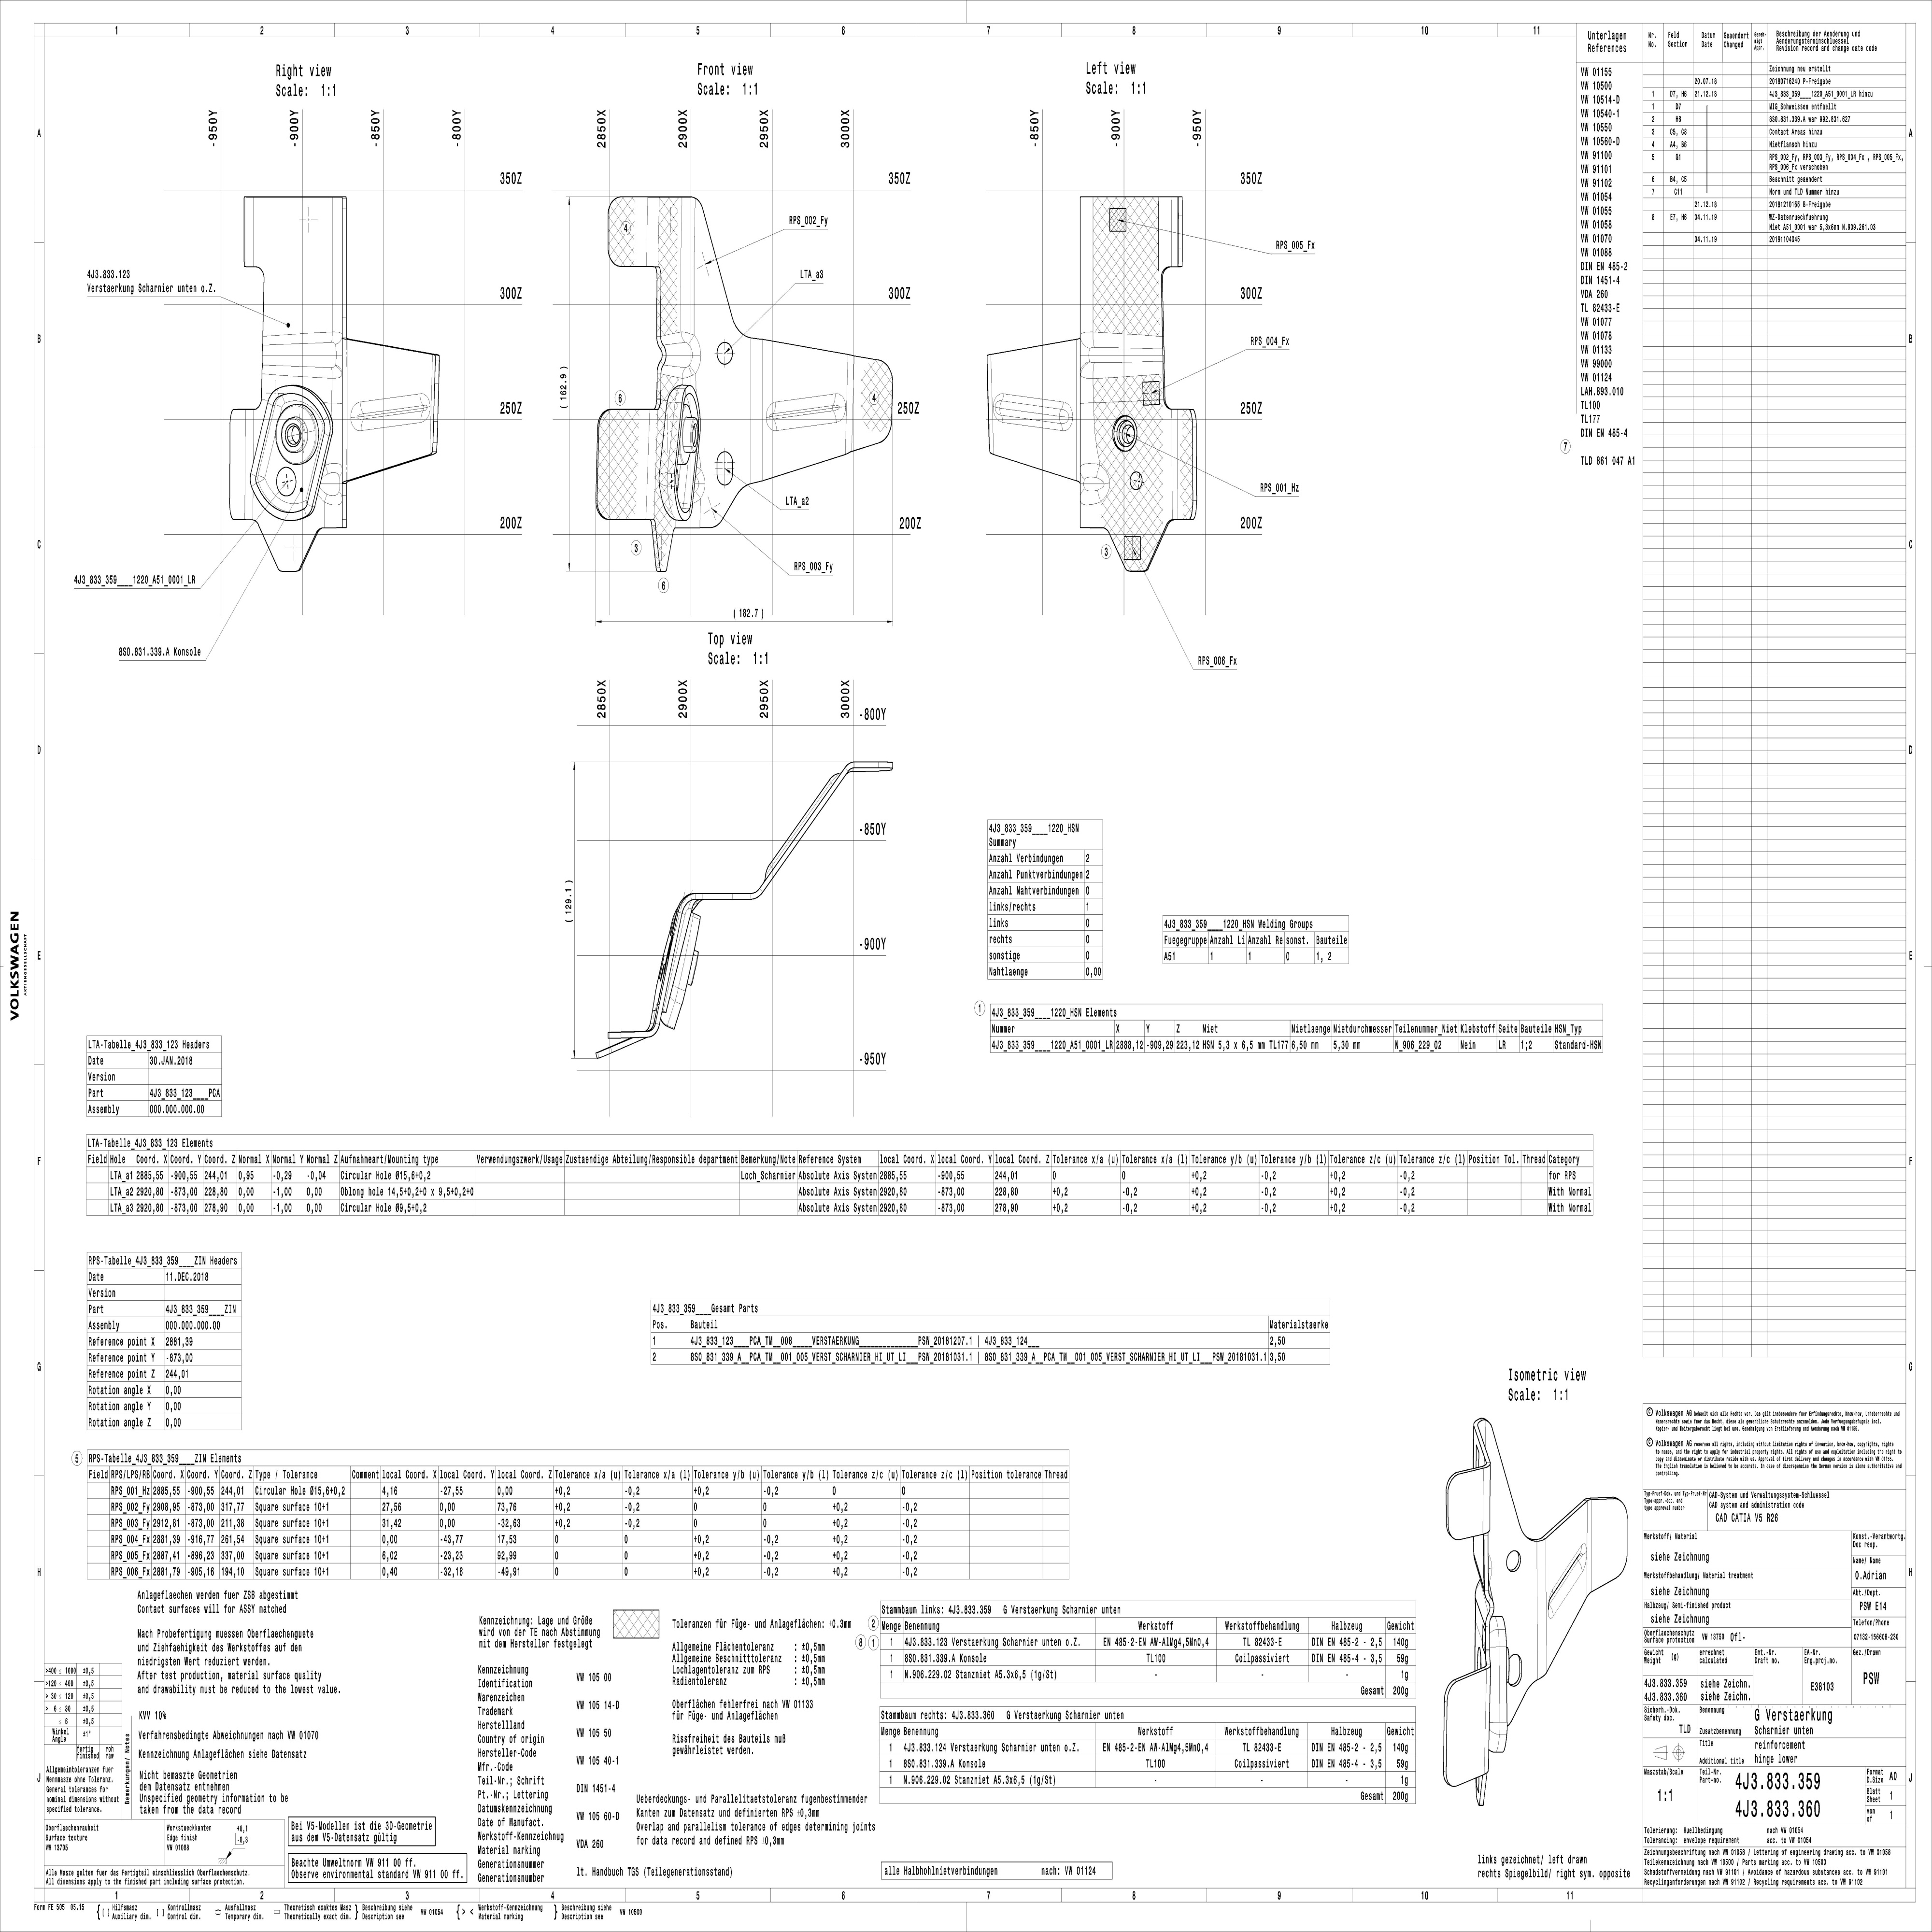Embossment: (1536, 1539, 1601, 1621), (343, 384, 437, 439), (987, 387, 1077, 439), (1079, 329, 1166, 379), (262, 331, 343, 382), (763, 389, 849, 435)
InnerContour: (1500, 1543, 1527, 1578), (713, 449, 736, 483), (1507, 1647, 1523, 1688), (717, 340, 734, 368)
Reinforcement: (655, 331, 702, 380), (1077, 460, 1111, 508), (320, 462, 345, 508), (694, 467, 706, 502)
ThroughHole: (281, 419, 308, 453)
